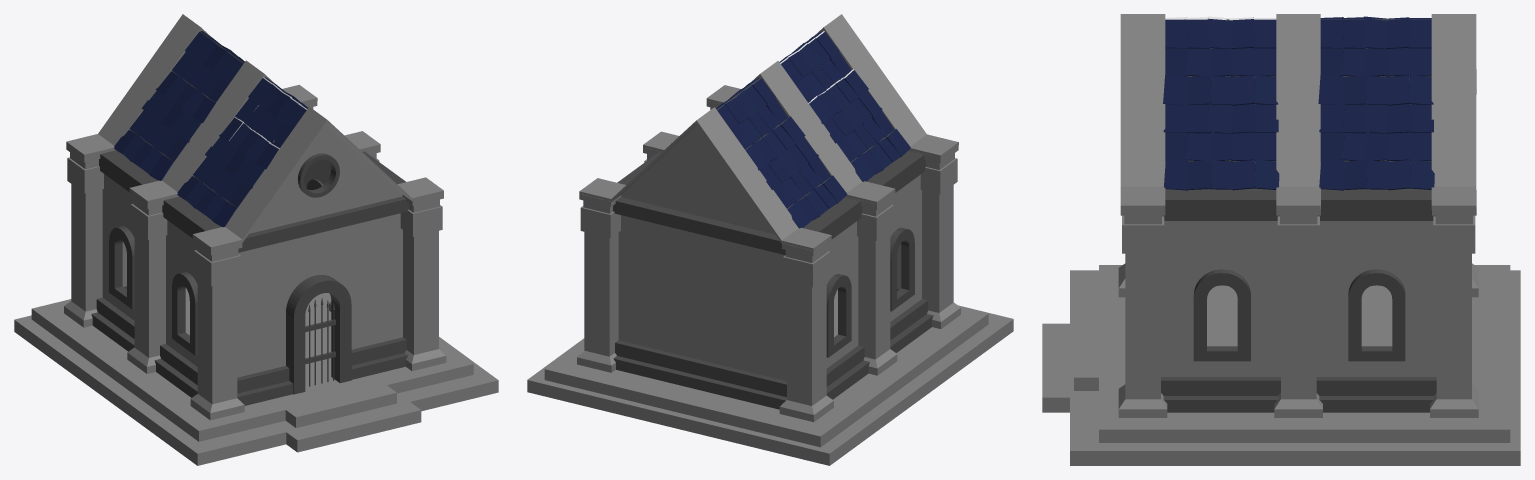
Rendered from Cemiterio.fbx.
The picture shows the model from 3 angles, left to right: view 1: azimuth 30°, elevation 25°; view 2: azimuth 150°, elevation 25°; view 3: azimuth 270°, elevation 25°; orthographic projection. The views are drawn at different scales.
Visible parts, largest first — view 1: Pilastras, Parede_Frontal, Telhas, tablado Superior, Telhado, Tablado Inferior, Laterais, Parede_Superior_Frontal, ArcoPorta, Janela_PAdrao, Calha, Calha.001 (+2 smaller); view 2: Parede_Traseira, Pilastras, Telhas, Telhado, tablado Superior, Tablado Inferior, Parede_Superior_traseira, Laterais, Janela_PAdrao, Calha.001, Calha; view 3: Telhas, Laterais, Telhado, tablado Superior, Pilastras, Tablado Inferior, Calha, Janela_PAdrao, Telha_base.
Boxes of the visible parts, left/top/right/bottom form: Pilastras: left=64, top=101, right=446, bottom=420; Parede_Frontal: left=237, top=213, right=407, bottom=405; Telhas: left=114, top=31, right=307, bottom=227; tablado Superior: left=31, top=288, right=473, bottom=441; Telhado: left=66, top=14, right=443, bottom=250; Tablado Inferior: left=14, top=315, right=498, bottom=465; Laterais: left=91, top=159, right=331, bottom=397; Parede_Superior_Frontal: left=249, top=124, right=402, bottom=233; ArcoPorta: left=286, top=275, right=351, bottom=394; Janela_PAdrao: left=109, top=179, right=323, bottom=355; Calha: left=99, top=150, right=405, bottom=238; Calha.001: left=238, top=196, right=408, bottom=252; Parede_Traseira: left=613, top=215, right=786, bottom=409; Pilastras: left=577, top=101, right=960, bottom=422; Telhas: left=716, top=31, right=910, bottom=228; Telhado: left=579, top=14, right=958, bottom=251; tablado Superior: left=544, top=289, right=988, bottom=447; Tablado Inferior: left=527, top=305, right=1013, bottom=465; Parede_Superior_traseira: left=621, top=125, right=774, bottom=234; Laterais: left=826, top=175, right=933, bottom=399; Janela_PAdrao: left=826, top=227, right=914, bottom=357; Calha.001: left=613, top=197, right=785, bottom=255; Calha: left=617, top=151, right=925, bottom=239; Telhas: left=1163, top=16, right=1434, bottom=190; Laterais: left=1161, top=221, right=1436, bottom=412; Telhado: left=1120, top=14, right=1476, bottom=209; tablado Superior: left=1074, top=265, right=1510, bottom=442; Pilastras: left=1118, top=69, right=1478, bottom=417; Tablado Inferior: left=1042, top=270, right=1520, bottom=465; Calha: left=1162, top=190, right=1435, bottom=220; Janela_PAdrao: left=1193, top=269, right=1405, bottom=361; Telha_base: left=1165, top=19, right=1431, bottom=190.
Bounding box in the file's own units: 1520 × 1419 × 1700.
